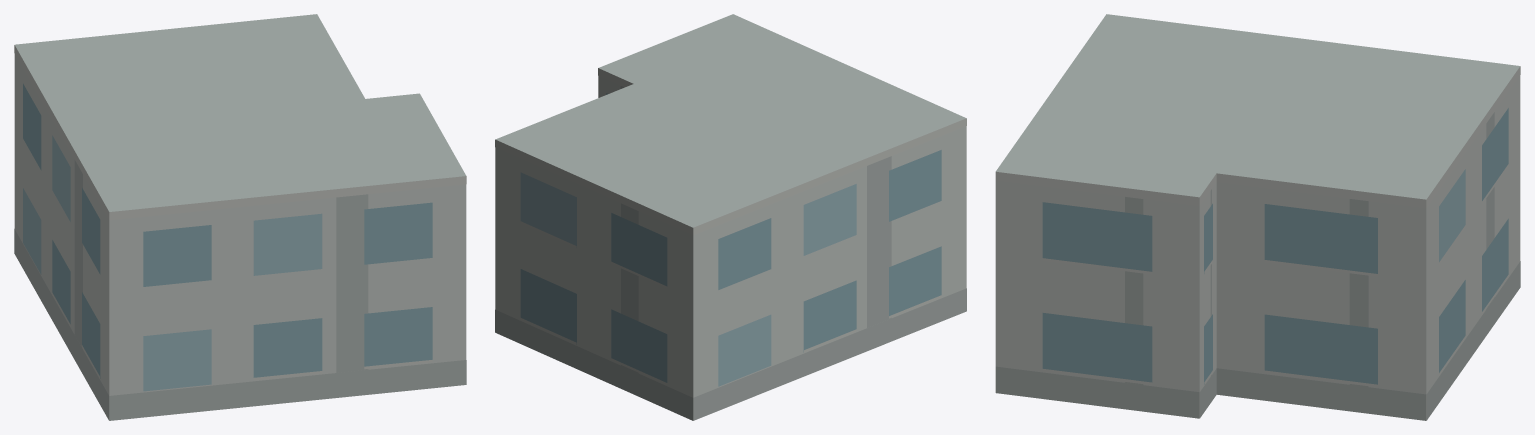
File: residential-0ba123ad-6f0e-4029-81c9-f573ee579acd.glb
3 renders of one model, left to right at view 1: azimuth 30°, elevation 25°; view 2: azimuth 150°, elevation 25°; view 3: azimuth 270°, elevation 25°, orthographic. The views are drawn at different scales.
Visible parts, largest first — view 1: residential-0ba123ad-6f0e-4029-81c9-f573ee579acd.tmp; view 2: residential-0ba123ad-6f0e-4029-81c9-f573ee579acd.tmp; view 3: residential-0ba123ad-6f0e-4029-81c9-f573ee579acd.tmp.
Part boxes in pixels (left/top/right/bottom): residential-0ba123ad-6f0e-4029-81c9-f573ee579acd.tmp: left=14, top=14, right=466, bottom=420; residential-0ba123ad-6f0e-4029-81c9-f573ee579acd.tmp: left=495, top=14, right=966, bottom=420; residential-0ba123ad-6f0e-4029-81c9-f573ee579acd.tmp: left=995, top=14, right=1520, bottom=420.
Size of the model in its own units: 10.98 by 6.1 by 13.12.
